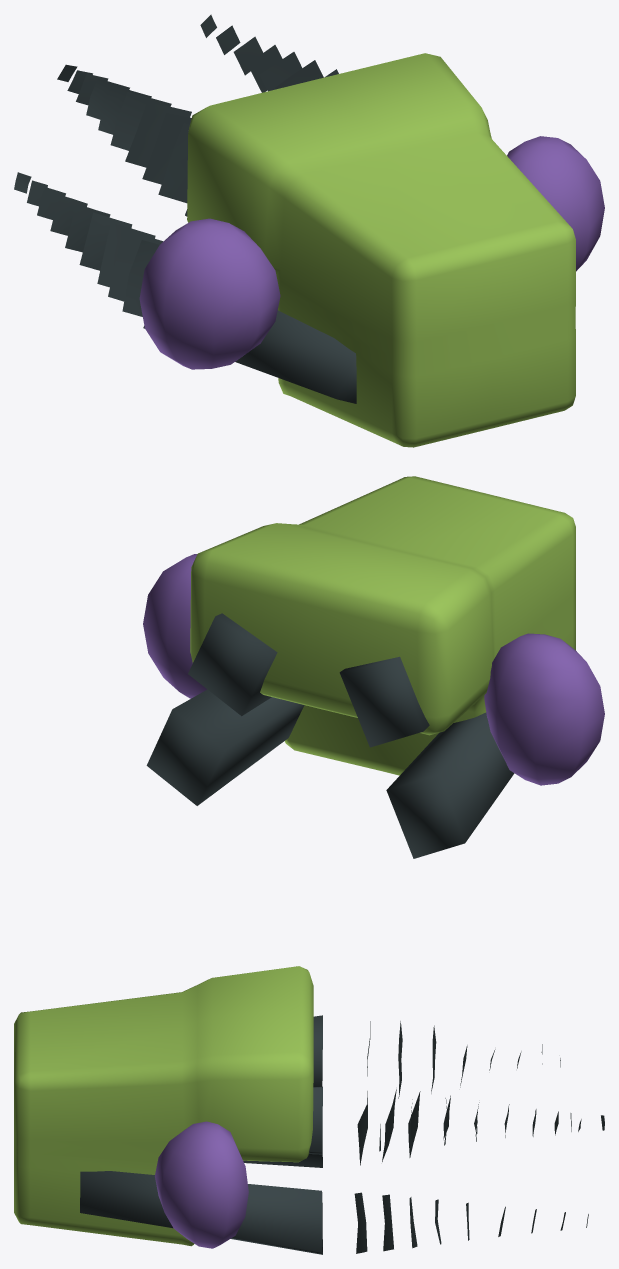
Rendered from ship_10.gltf.
3 renders of one model, top to bottom at view 1: azimuth 30°, elevation 25°; view 2: azimuth 150°, elevation 25°; view 3: azimuth 270°, elevation 25°, orthographic. The views are drawn at different scales.
Parts seen in each view (by area): view 1: gtlf; view 2: gtlf; view 3: gtlf.
Boxes of the visible parts, x1,y1,x2,y2 form: gtlf: (14,14,604,447); gtlf: (143,476,604,858); gtlf: (14,966,604,1254).
Size of the model in its own units: 1.68 by 0.8999 by 2.38.
